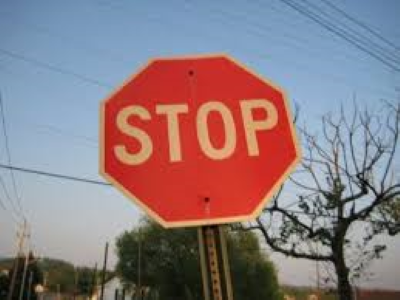stop: (104, 65, 294, 217)
